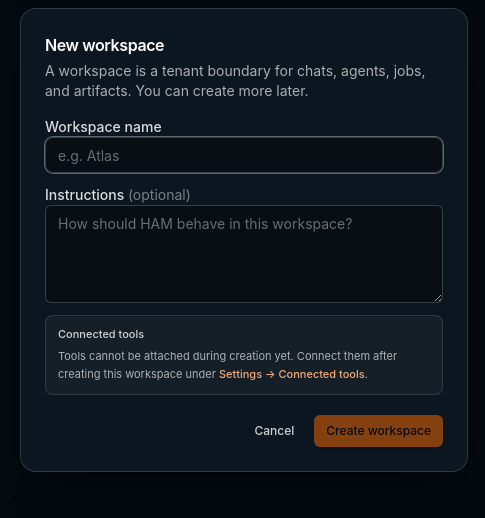
WorkspaceOnboardingScreen extended create fields › disables Create when workspace name is empty
The image size is (485, 518).
Expected: the button "Create workspace" is disabled, [314,415,443,447]
Type "Acme" into the field labelled "Workspace name".
click(244, 155); type("Acme")  # box [45,137,443,173]
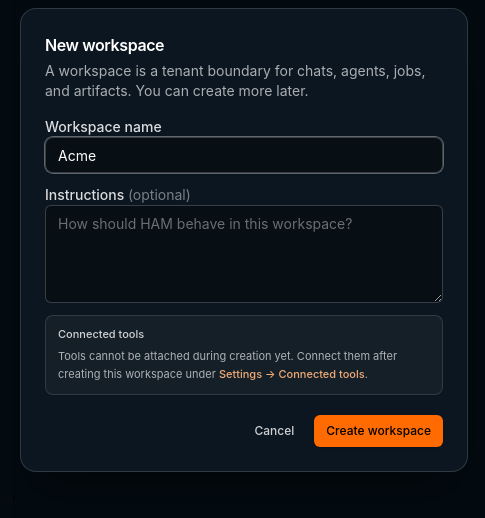
Expected: the element with test id "ham-workspace-connected-tools-hint" is shown, [45,315,443,395]
Now the button "Create workspace" is enabled, box [314,415,443,447]
